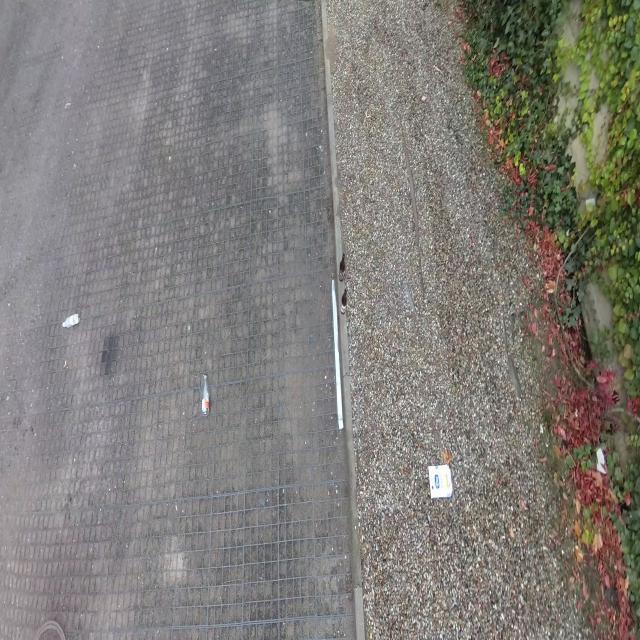rubbish: (332, 281, 344, 429), (428, 463, 453, 500), (201, 374, 209, 416), (62, 313, 80, 328), (338, 254, 345, 281), (340, 289, 347, 314)
